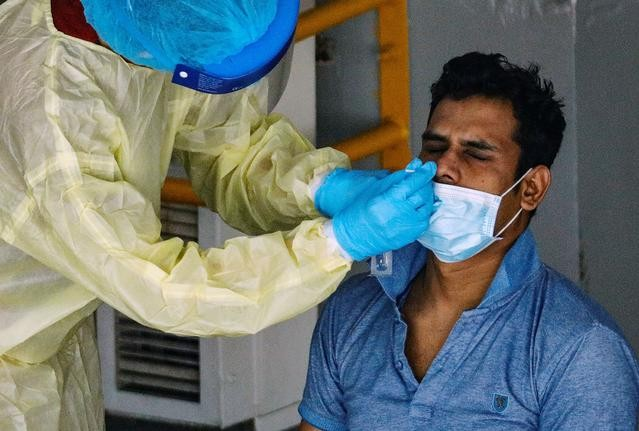Coverall: (1, 5, 303, 430)
Gloves: (333, 158, 441, 266)
mask_weared_incorrect: (406, 133, 502, 266)
